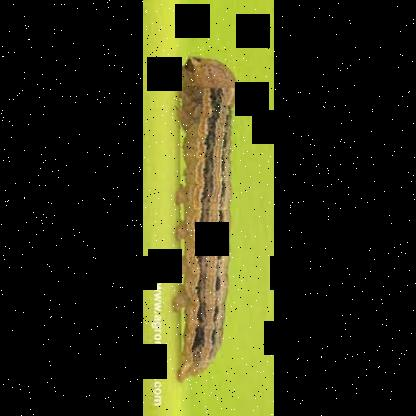oruga: (174, 50, 238, 386)
